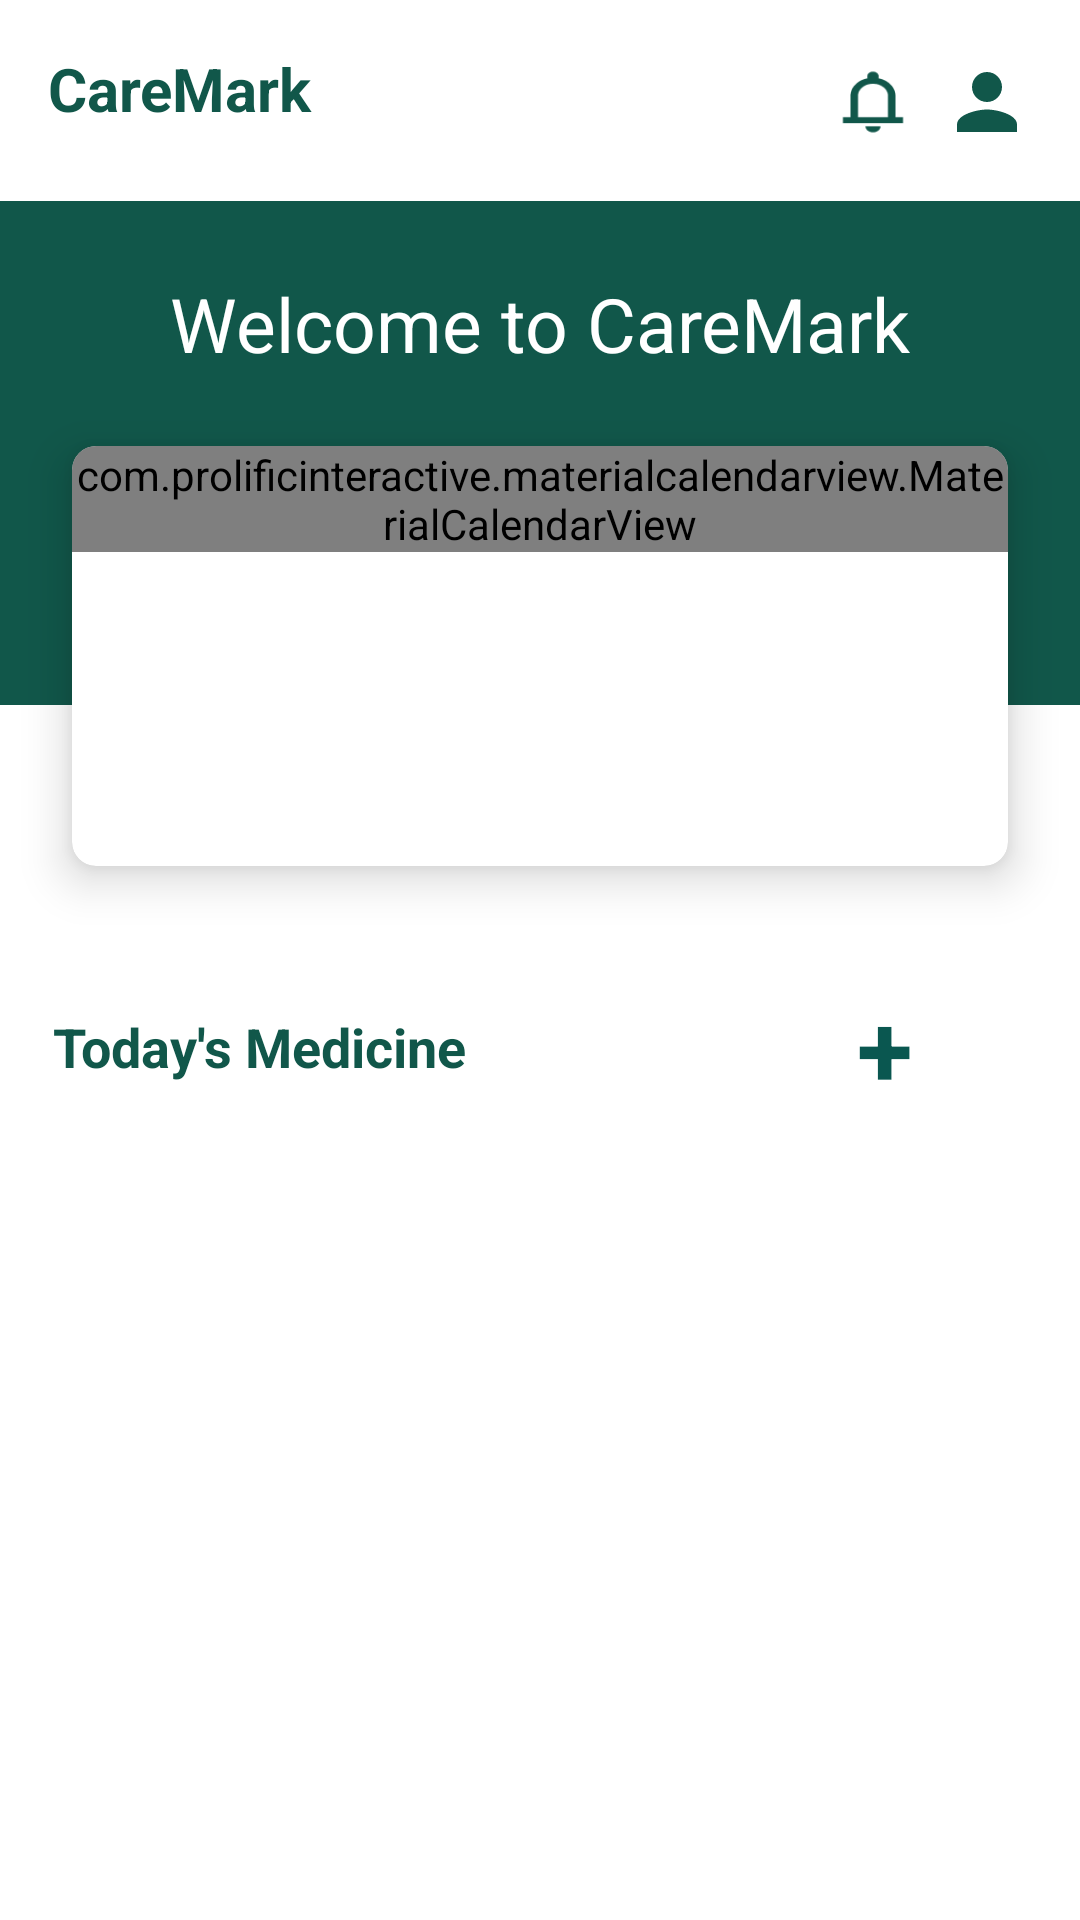

Point at icon controls on the screen. Image size 1080px x 1920px, points as [x,y].
notification: [873,102]
person: [987,102]
